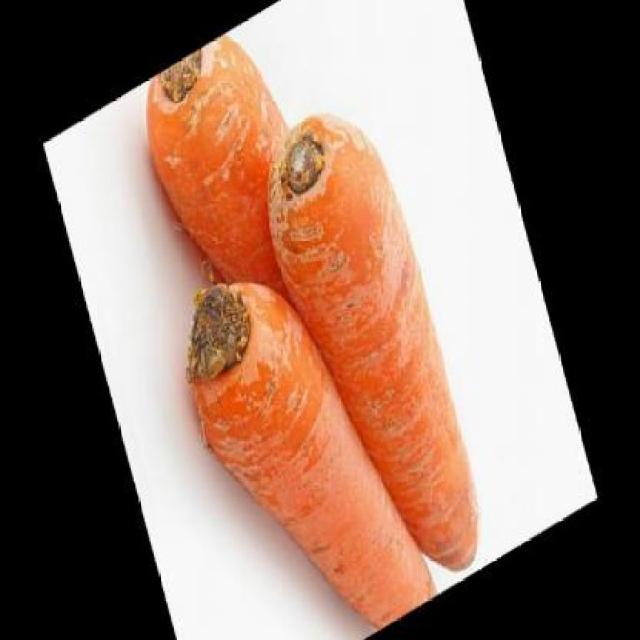carrot: (244, 80, 496, 626), (166, 207, 440, 639), (131, 11, 334, 367)
